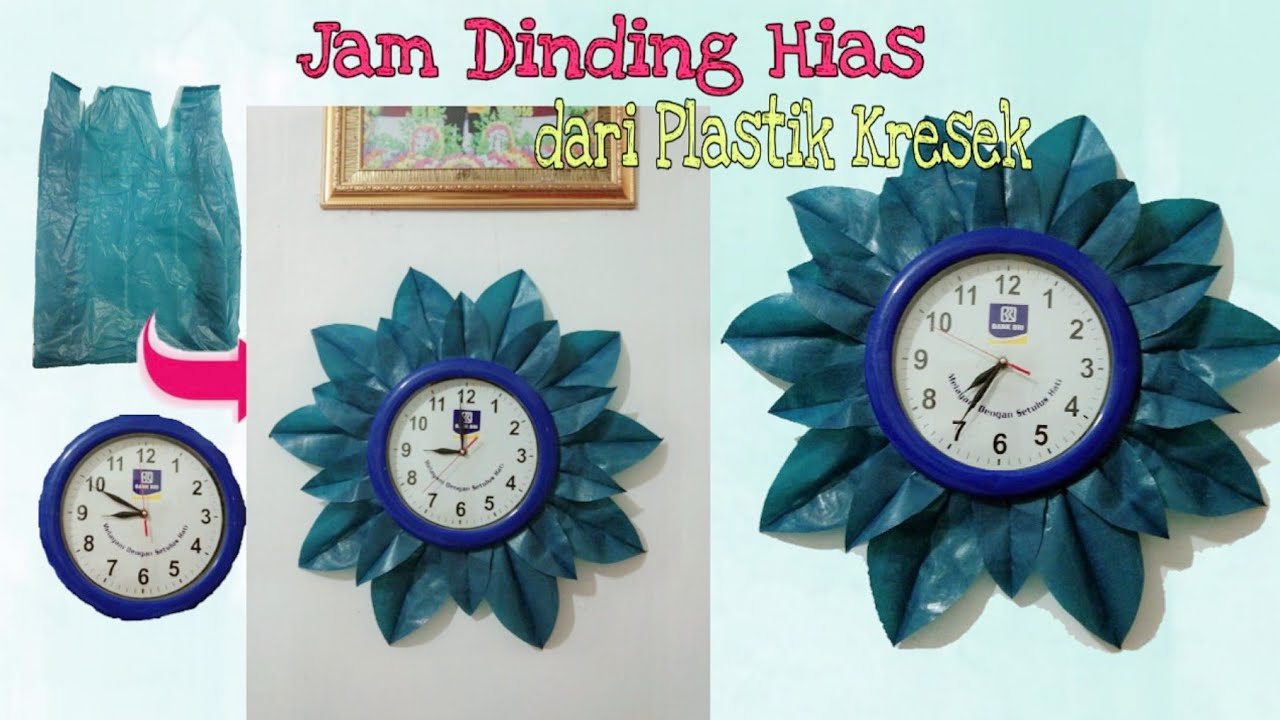jam dinding: (728, 108, 1268, 659), (279, 291, 651, 650), (57, 414, 275, 653)
